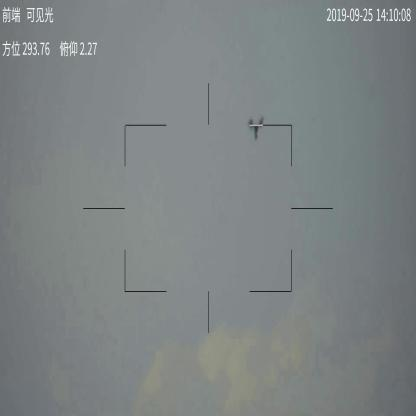uav: (246, 114, 265, 138)
